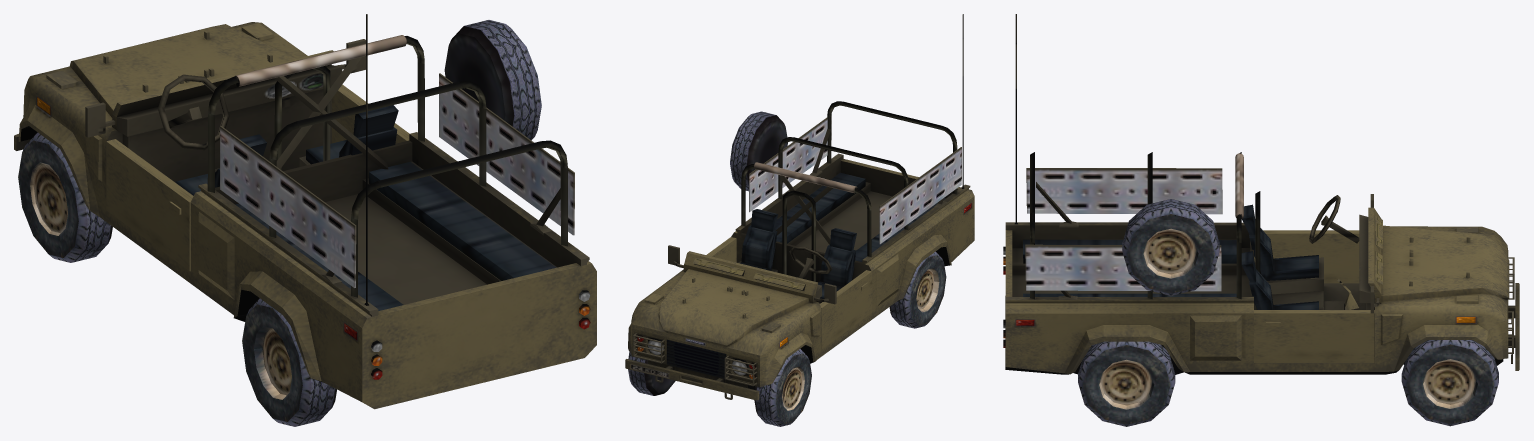
File: landrover_01_veh.fbx
The picture shows the model from 3 angles, left to right: view 1: azimuth 30°, elevation 25°; view 2: azimuth 150°, elevation 25°; view 3: azimuth 270°, elevation 25°; orthographic projection. The views are drawn at different scales.
Parts seen in each view (by area): view 1: LandRover, tire1_1, tire3_1, driver_side_door_1, passenger_side_door_1; view 2: LandRover, tire1_1, tire3_1, driver_side_door_1, tire_2_1, passenger_side_door_1; view 3: LandRover, tire3_1, tire_2_1, passenger_side_door_1, driver_side_door_1.
Part boxes in pixels (x1,y1,x2,y2): LandRover: [14, 14, 596, 409]; tire1_1: [18, 132, 112, 262]; tire3_1: [242, 298, 336, 426]; driver_side_door_1: [106, 139, 193, 271]; passenger_side_door_1: [332, 84, 409, 143]; LandRover: [625, 14, 974, 400]; tire1_1: [754, 349, 811, 426]; tire3_1: [889, 251, 946, 328]; driver_side_door_1: [819, 270, 872, 348]; tire_2_1: [628, 351, 675, 395]; passenger_side_door_1: [706, 237, 736, 262]; LandRover: [1003, 14, 1519, 374]; tire3_1: [1078, 341, 1175, 426]; tire_2_1: [1401, 340, 1498, 426]; passenger_side_door_1: [1254, 310, 1374, 362]; driver_side_door_1: [1254, 230, 1359, 283].
Size of the model in its own units: 1.87 by 2.89 by 4.06.
